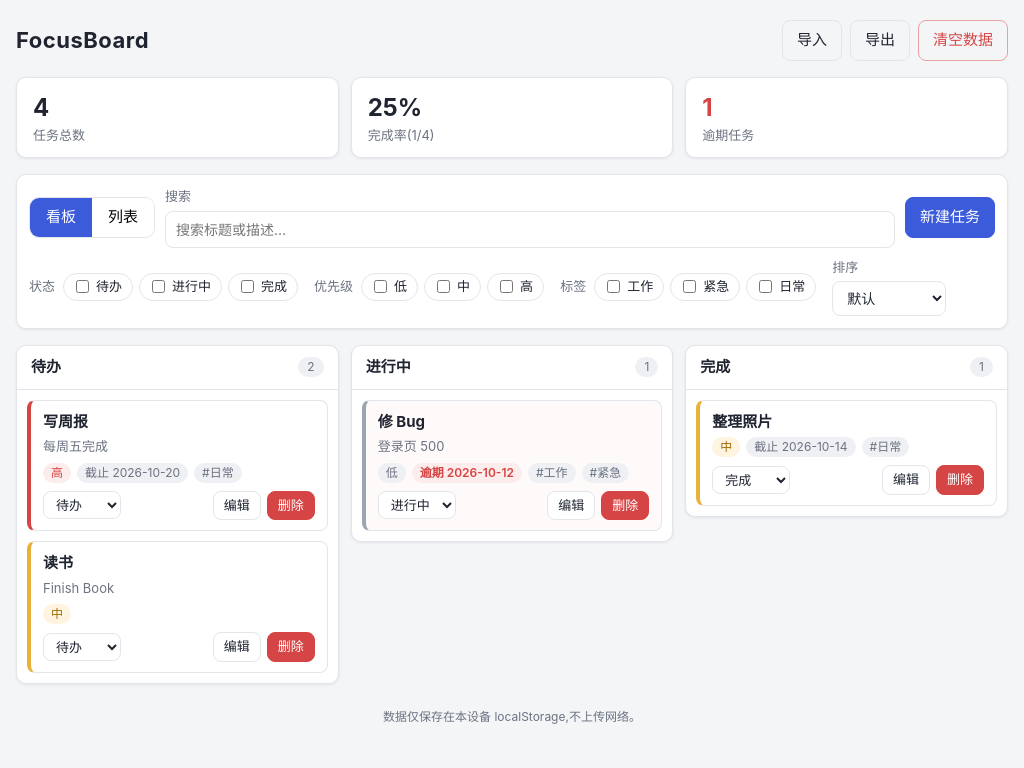
Test: CRUD 与表单校验 › 编辑任务保留 id 并更新字段
The width and height of the screenshot is (1024, 768).
Click the button "编辑" below "Finish Book".
click(237, 647)  # box [213,632,261,662]
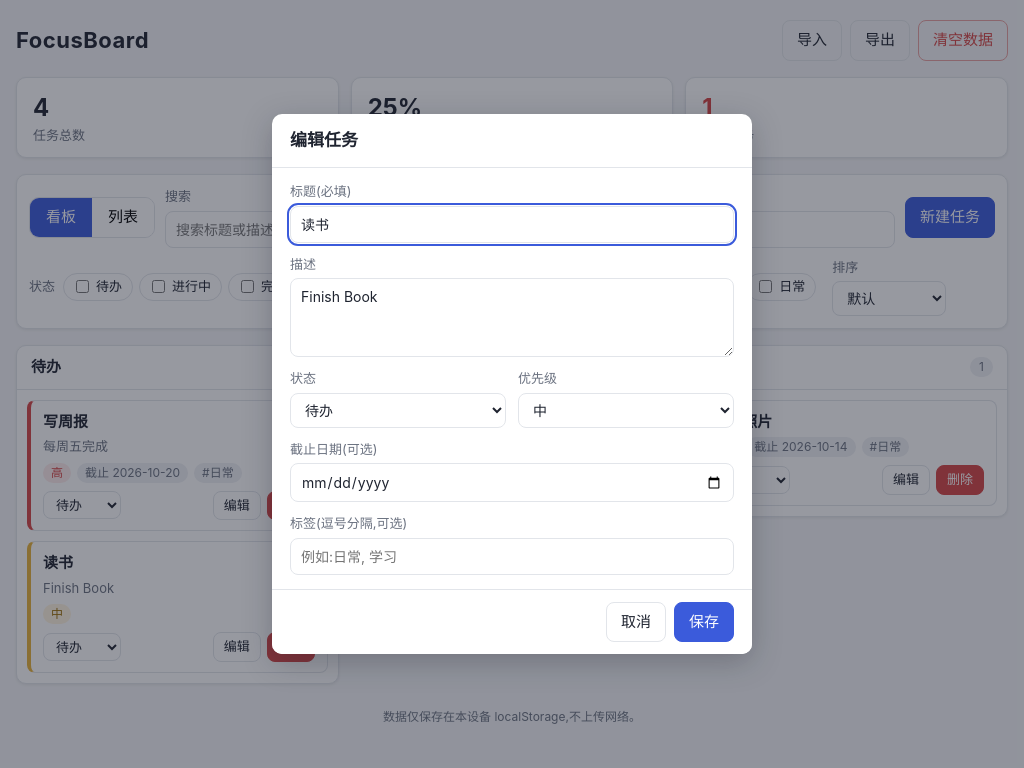
Now the field with test id "field-title" holds "读书"
Replace the text in the field with test id "field-title" with "读完一本书" at [512, 224], box [290,206,734,243]
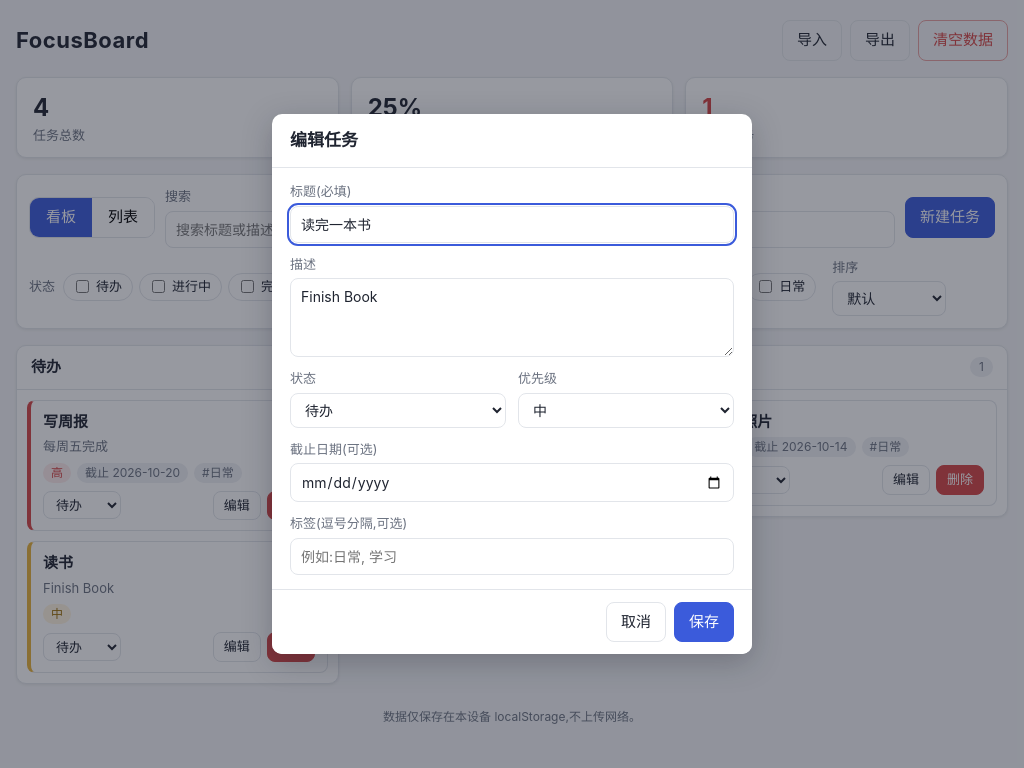
Click the button "保存".
click(704, 622)  # box [674,602,734,642]
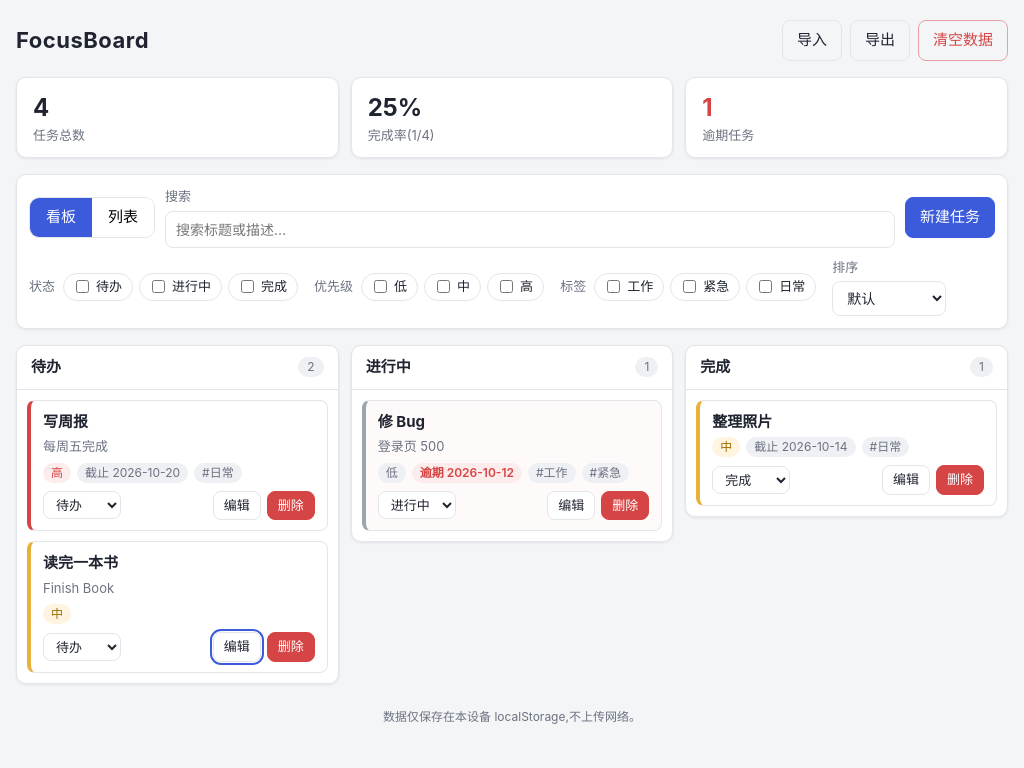
Now the heading "读完一本书" is shown, box [43,553,118,572]
